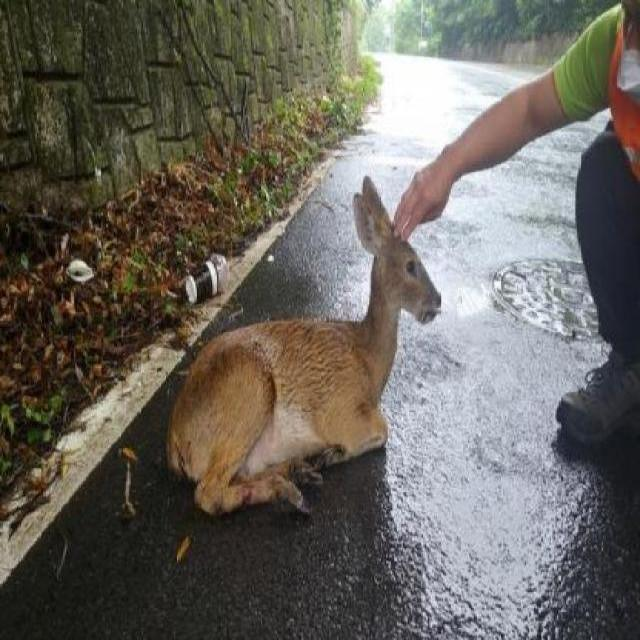deer: (229, 240, 443, 515)
